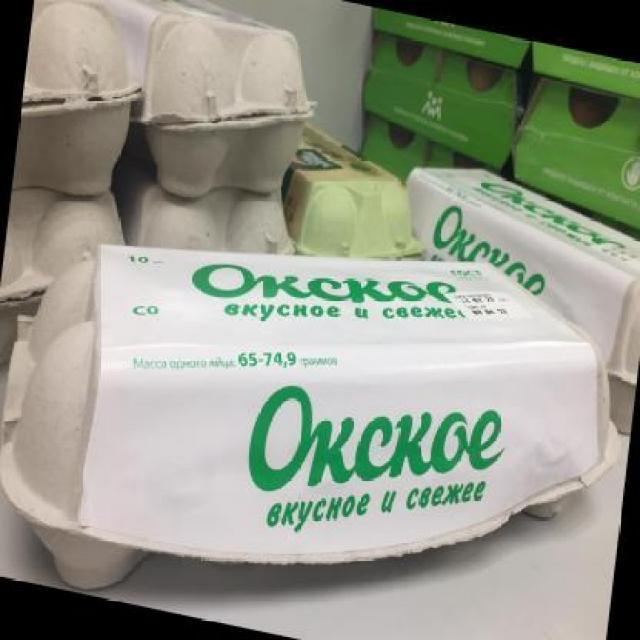egg: (0, 160, 640, 640), (128, 1, 324, 220)
